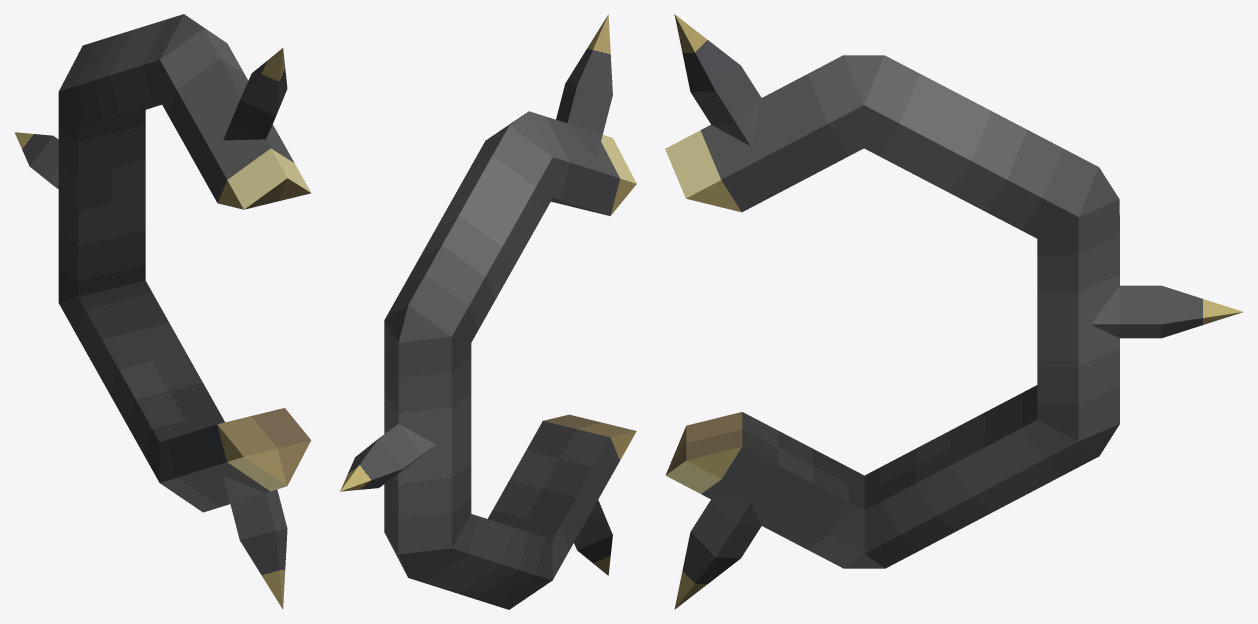
File: actuator_ender_locator.obj
3 views of the same model, side by side, from view 1: azimuth 30°, elevation 25°; view 2: azimuth 150°, elevation 25°; view 3: azimuth 270°, elevation 25° (orthographic). The views are drawn at different scales.
Visible parts, largest first — view 1: LABYRINTHINE_NAVIGATOR_LOCATOR_Cube.122; view 2: LABYRINTHINE_NAVIGATOR_LOCATOR_Cube.122; view 3: LABYRINTHINE_NAVIGATOR_LOCATOR_Cube.122.
Part boxes in pixels (box(x1,y1,x2,y2)): LABYRINTHINE_NAVIGATOR_LOCATOR_Cube.122: box(14, 14, 311, 609); LABYRINTHINE_NAVIGATOR_LOCATOR_Cube.122: box(340, 14, 636, 609); LABYRINTHINE_NAVIGATOR_LOCATOR_Cube.122: box(665, 14, 1242, 609).
Size of the model in its own units: 0.125 by 0.9949 by 0.8758.
